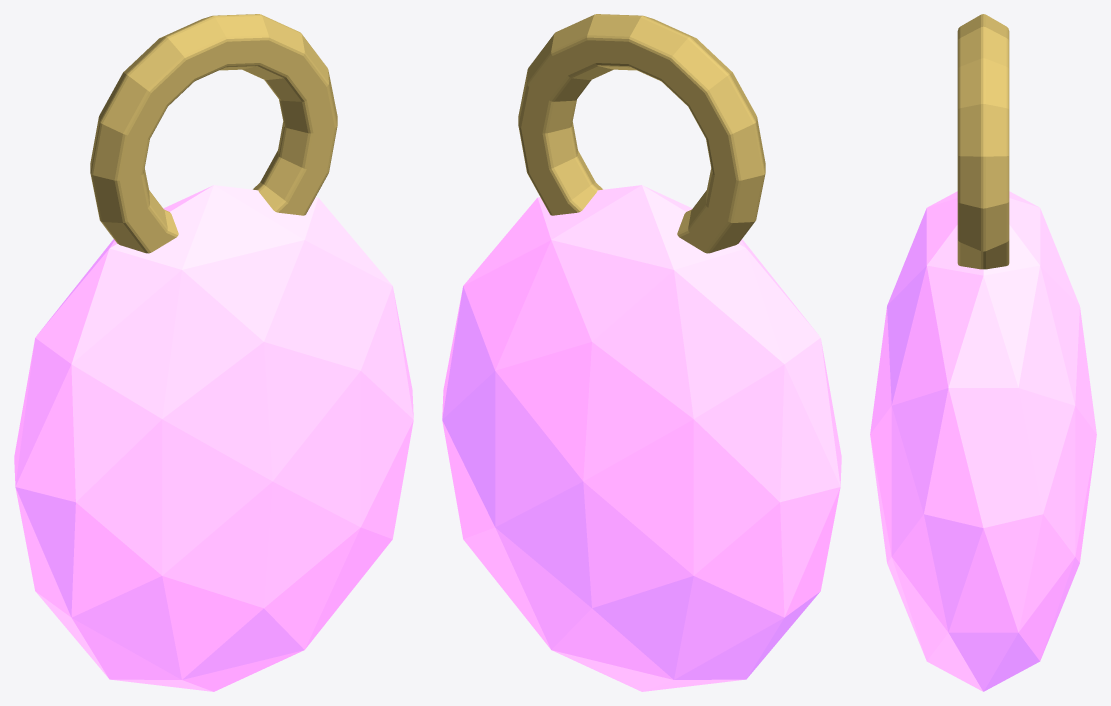
File: item_charms.glb
The picture shows the model from 3 angles, left to right: view 1: azimuth 30°, elevation 25°; view 2: azimuth 150°, elevation 25°; view 3: azimuth 270°, elevation 25°; orthographic projection. The views are drawn at different scales.
Parts seen in each view (by area): view 1: item_charms_part_0, item_charms_part_1; view 2: item_charms_part_0, item_charms_part_1; view 3: item_charms_part_0, item_charms_part_1.
Part boxes in pixels (left/top/right/bottom): item_charms_part_0: left=14, top=185, right=413, bottom=691; item_charms_part_1: left=90, top=14, right=337, bottom=253; item_charms_part_0: left=442, top=185, right=841, bottom=691; item_charms_part_1: left=518, top=14, right=765, bottom=253; item_charms_part_0: left=870, top=191, right=1096, bottom=691; item_charms_part_1: left=957, top=14, right=1009, bottom=269.
Size of the model in its own units: 0.82 by 1.33 by 0.42.
